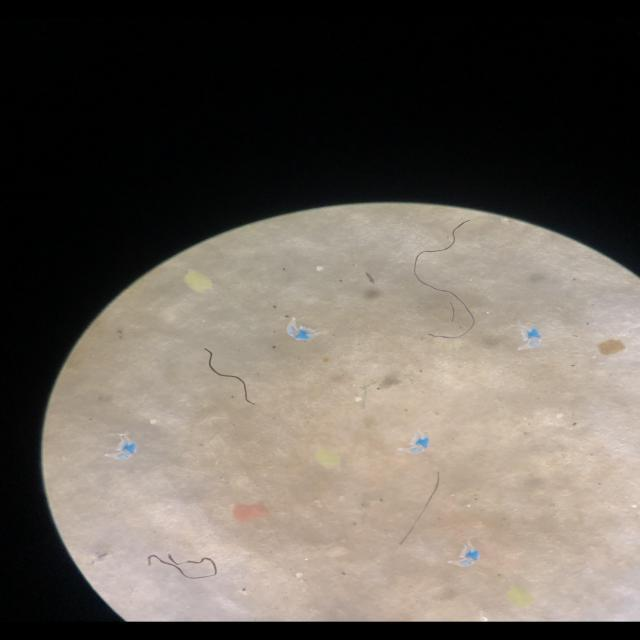fiber: (411, 218, 465, 342), (200, 344, 266, 412), (141, 542, 225, 585), (398, 473, 446, 547)
film: (506, 320, 561, 355), (280, 315, 326, 347), (445, 538, 487, 566), (106, 431, 138, 466), (403, 436, 431, 460)
fragment: (226, 487, 272, 524), (504, 582, 542, 612), (180, 263, 216, 294), (587, 333, 625, 359), (308, 443, 345, 469), (417, 465, 433, 465)
pallet: (144, 416, 166, 428), (310, 263, 328, 273), (350, 393, 365, 403), (294, 569, 306, 581)
